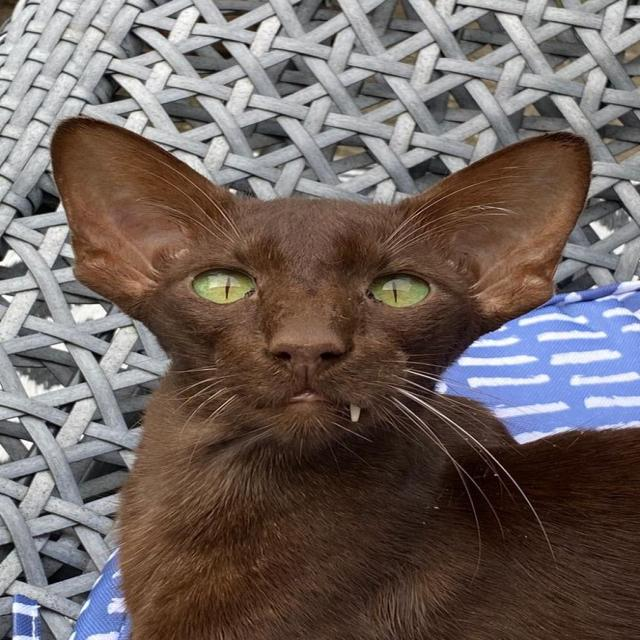Oriental: (44, 109, 639, 640)
